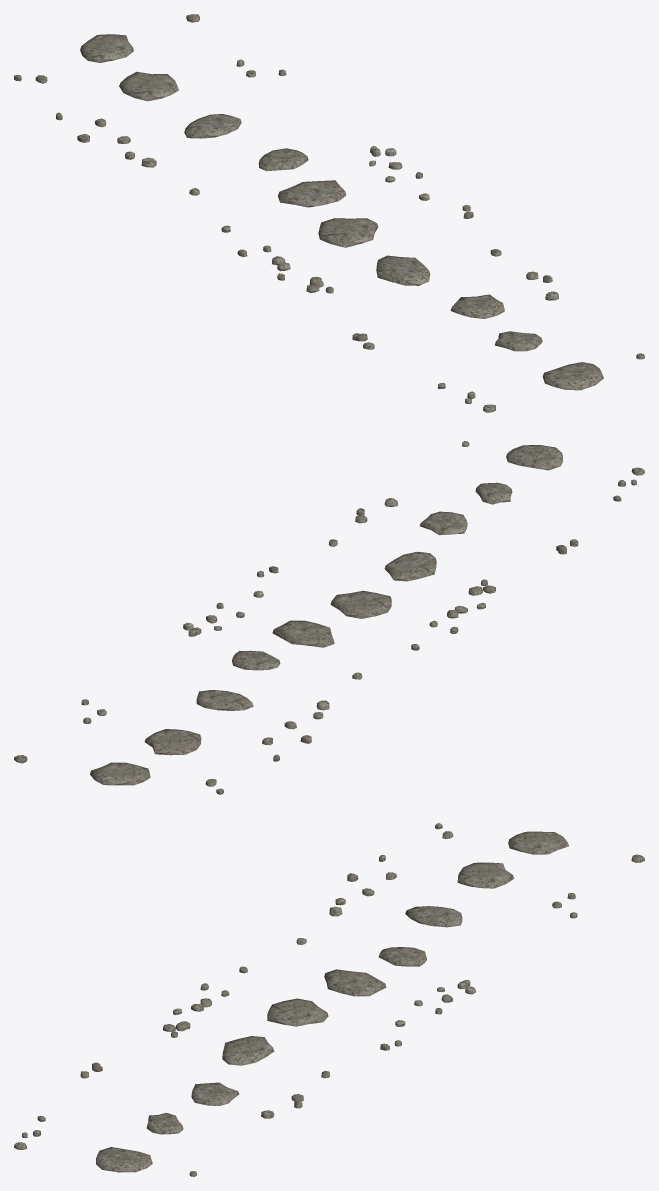
The model's file is path.glb.
3 views of the same model, one above another, from view 1: azimuth 30°, elevation 25°; view 2: azimuth 150°, elevation 25°; view 3: azimuth 330°, elevation 25° (orthographic). The views are drawn at different scales.
Visible parts, largest first — view 1: Path; view 2: Path; view 3: Path.
Part boxes in pixels (<box>): Path: <box>14,14,644,412</box>; Path: <box>14,441,644,794</box>; Path: <box>14,823,644,1176</box>.
Bounding box in the file's own units: 1.6 × 0.0372 × 5.94.
Materials: 1 (1 with a texture image).
